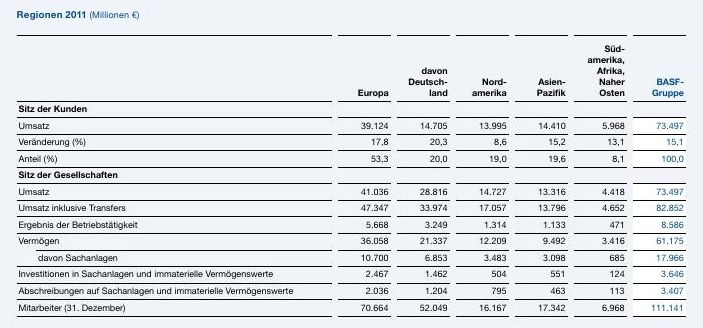table: (0, 0, 703, 328)
